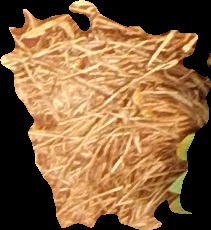soil: (1, 1, 210, 229)
